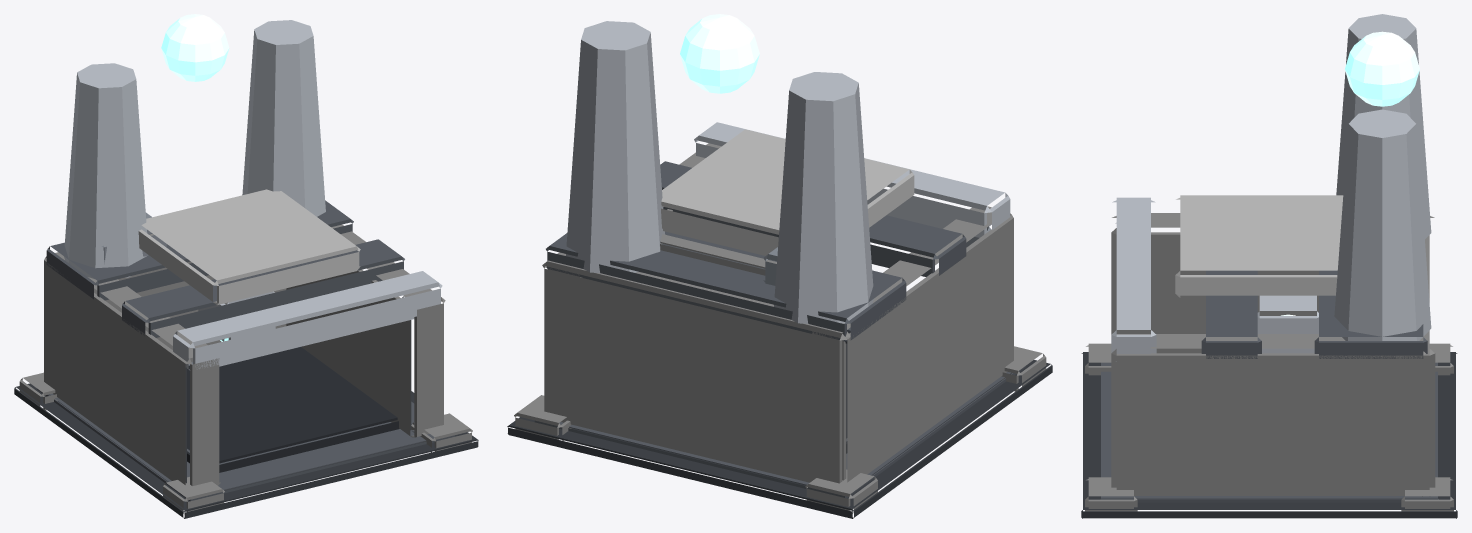
File: advbotlab.glb
The picture shows the model from 3 angles, left to right: view 1: azimuth 30°, elevation 25°; view 2: azimuth 150°, elevation 25°; view 3: azimuth 270°, elevation 25°; orthographic projection. The views are drawn at different scales.
Visible parts, largest first — view 1: body; view 2: body; view 3: body.
Part boxes in pixels (<box>): body: <box>14,14,478,518</box>; body: <box>507,14,1052,518</box>; body: <box>1081,14,1457,518</box>.
Bounding box in the file's own units: 112 × 133 × 112.
